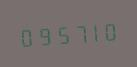five: (52, 21, 68, 47)
nine: (34, 22, 50, 48)
one: (86, 18, 102, 44)
seven: (69, 19, 85, 45)
zero: (17, 23, 33, 49), (103, 17, 119, 43)
